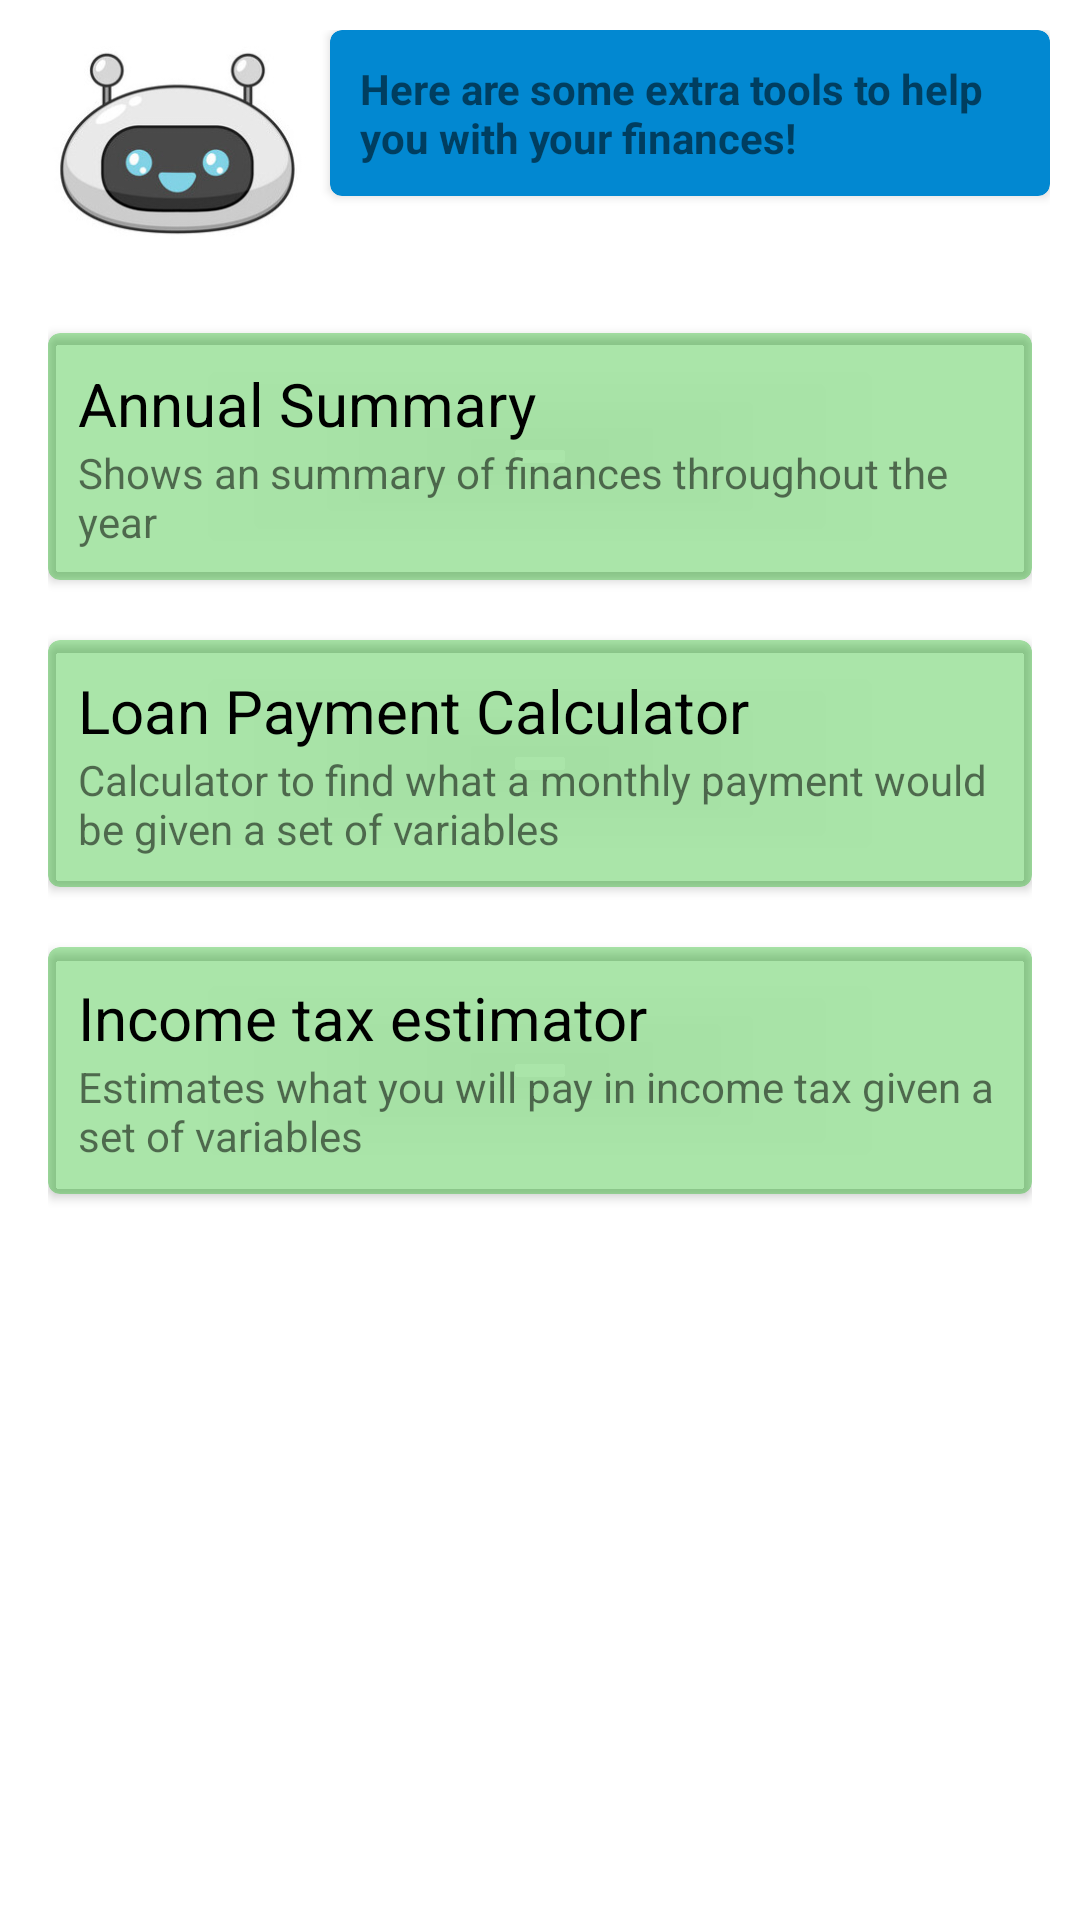

Icon bounding boxes for this 1080 × 1920 phone screenshot, format BBox(x1, y1, x2, y2):
brobot happy mouth open: BBox(60, 53, 295, 234)
